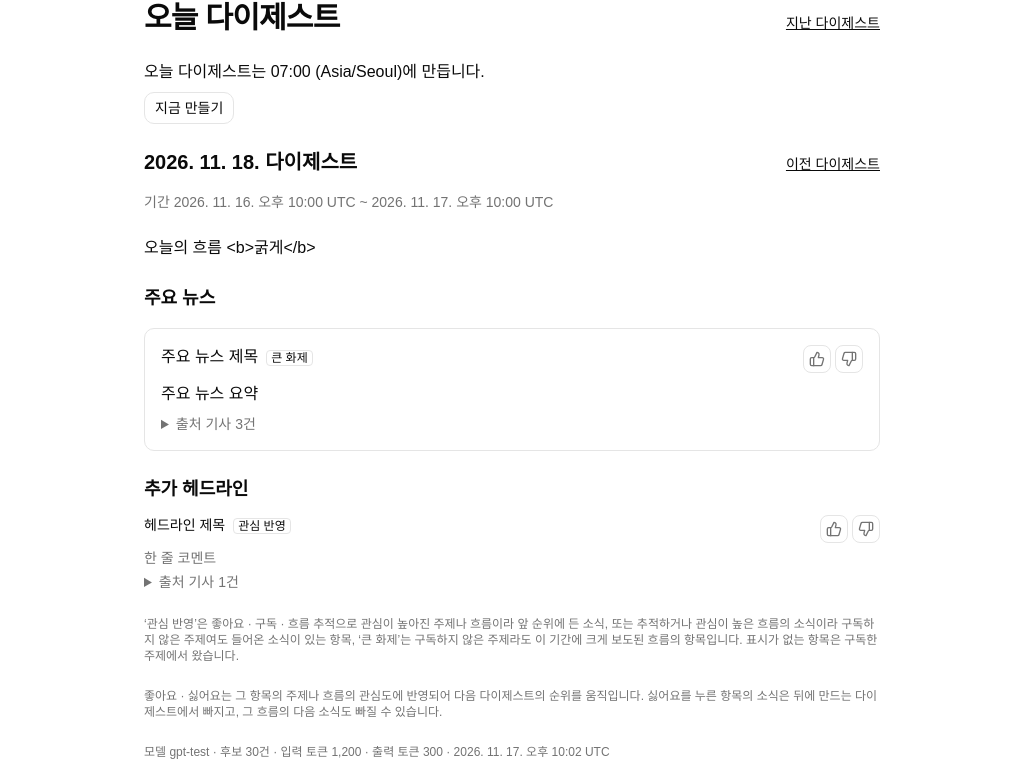
Scenario: DigestHomePage › 오늘 일정 생성 시각이 있을 때 새로 만들면 그날 일정 생성이 빠진다고 알린다
Click the button "지금 만들기": (189, 108) [144, 92, 234, 124]
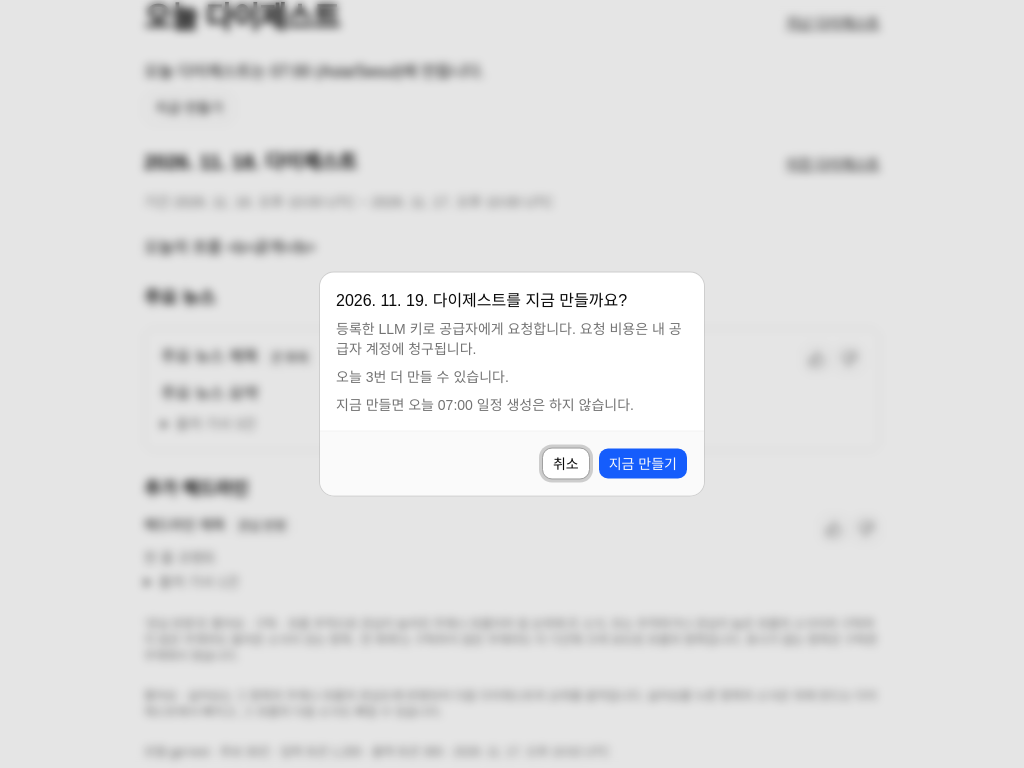
Expected: the dialog does not show "같은 기간으로 다시 만듭니다", [320, 272, 704, 496]
Now the dialog shows "2026. 11. 19. 다이제스트를 지금 만들까요?", box [336, 292, 627, 308]
Now the dialog shows "지금 만들면 오늘 07:00 일정 생성은 하지 않습니다.", box [336, 396, 634, 412]
